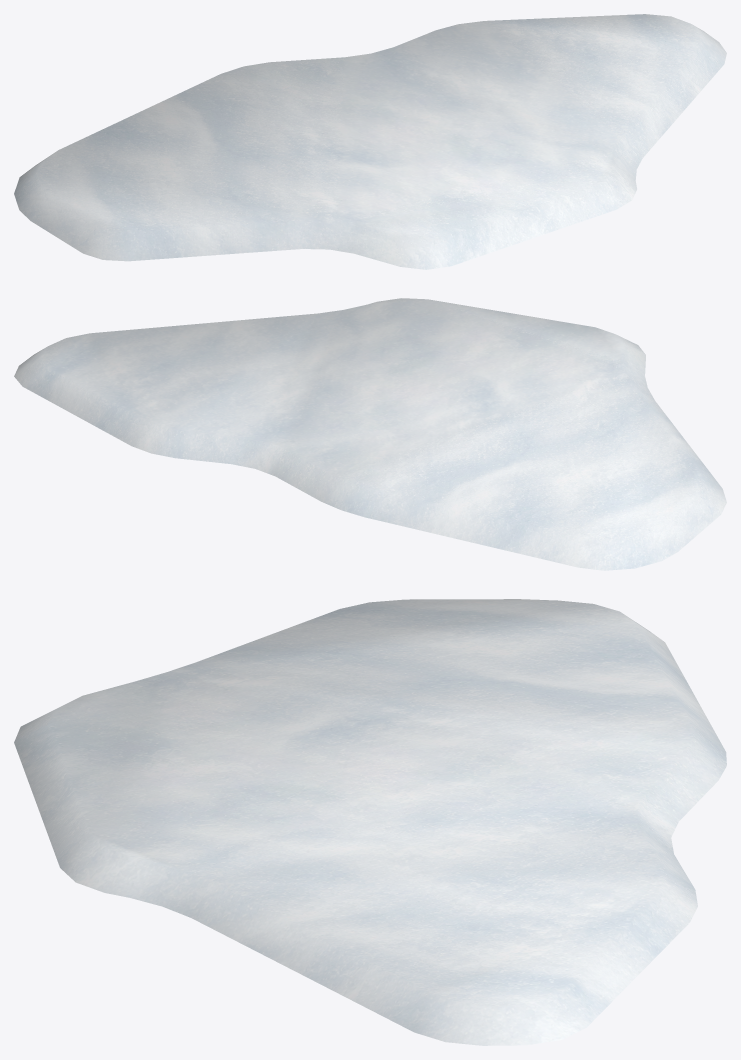
Rendered from Ice_03_Snow.fbx.
The picture shows the model from 3 angles, top to bottom: view 1: azimuth 30°, elevation 25°; view 2: azimuth 150°, elevation 25°; view 3: azimuth 270°, elevation 25°; orthographic projection. The views are drawn at different scales.
Visible parts, largest first — view 1: Ice_03_Snow; view 2: Ice_03_Snow; view 3: Ice_03_Snow.
Part boxes in pixels (x1,y1,x2,y2): Ice_03_Snow: (14, 14, 726, 269); Ice_03_Snow: (14, 298, 726, 570); Ice_03_Snow: (14, 599, 726, 1045).
Size of the model in its own units: 570 by 367 by 38.85.
